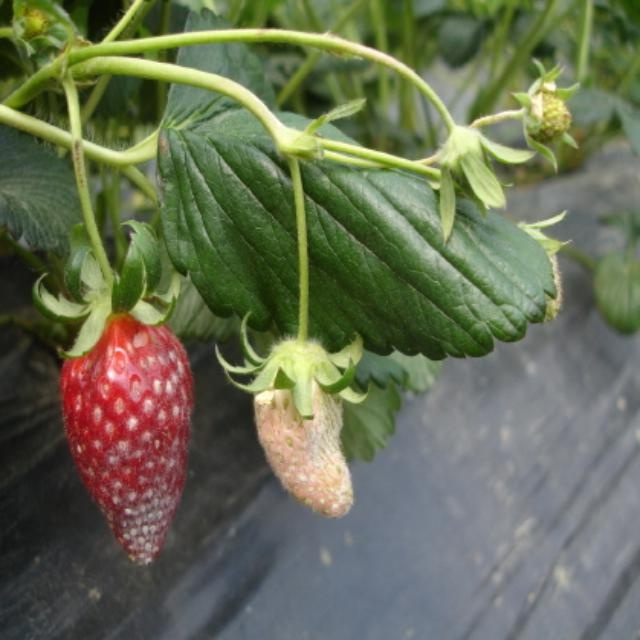Powdery Mildew Fruit: (60, 289, 194, 566), (251, 336, 356, 520)
